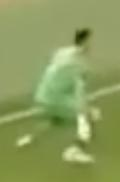goalkeeper: (10, 14, 110, 171)
